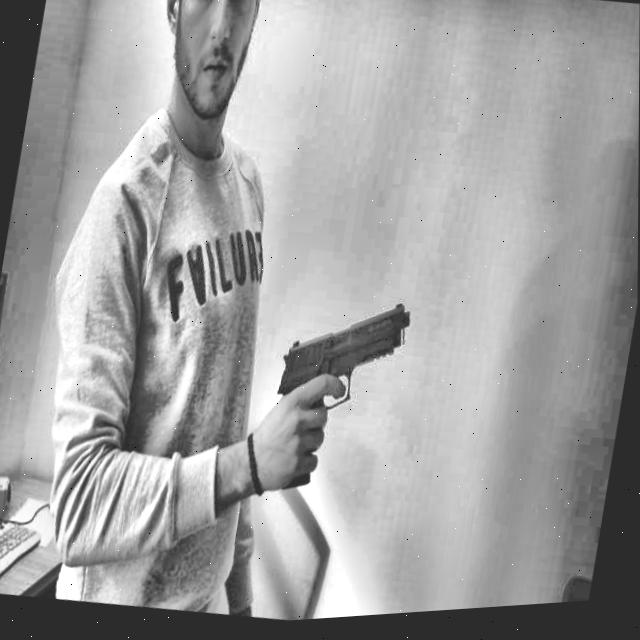pistol: (251, 297, 422, 505)
